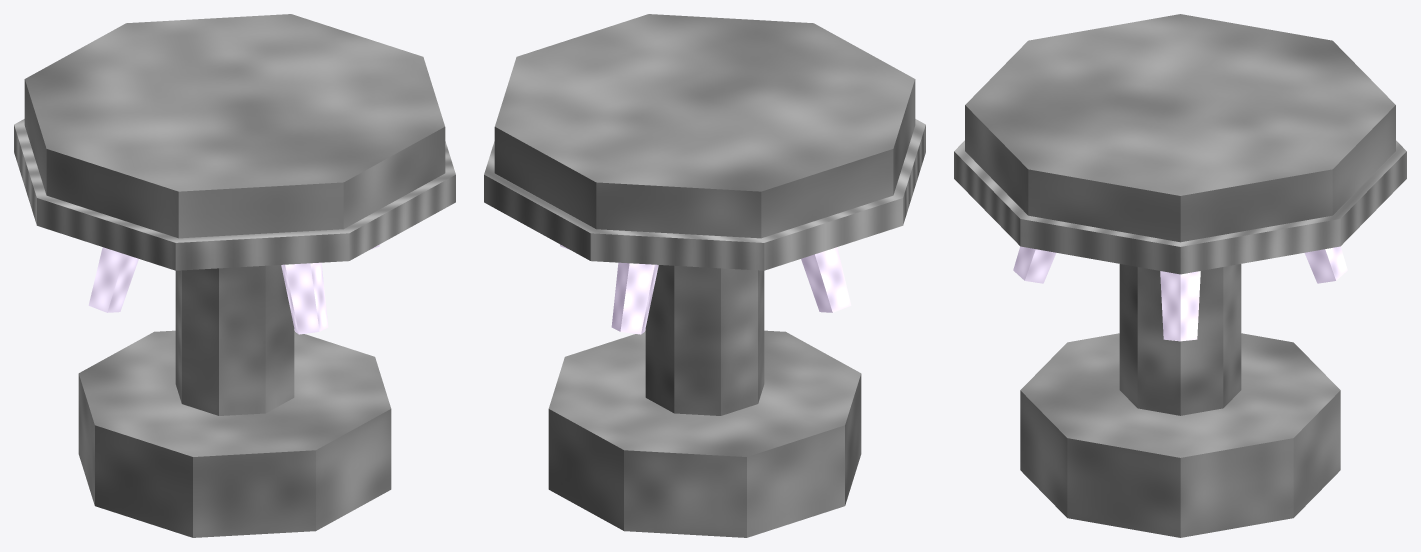
File: decor-crystal-end-table.glb
3 views of the same model, side by side, from view 1: azimuth 30°, elevation 25°; view 2: azimuth 150°, elevation 25°; view 3: azimuth 270°, elevation 25° (orthographic).
Visible parts, largest first — view 1: top, base, pedestal, top-band, under-crystal-1, under-crystal-2; view 2: top, base, pedestal, top-band, under-crystal-3, under-crystal-2; view 3: top, base, top-band, pedestal, under-crystal-0, under-crystal-1, under-crystal-3.
Boxes of the visible parts, <box> form: top: <box>24,14,445,238</box>; base: <box>78,330,391,537</box>; pedestal: <box>175,265,294,415</box>; top-band: <box>14,119,455,270</box>; under-crystal-1: <box>281,262,328,334</box>; under-crystal-2: <box>88,247,138,312</box>; top: <box>494,14,915,238</box>; base: <box>548,330,861,537</box>; pedestal: <box>645,265,764,415</box>; top-band: <box>484,119,925,270</box>; under-crystal-3: <box>611,262,658,334</box>; under-crystal-2: <box>801,247,851,312</box>; top: <box>965,14,1395,242</box>; base: <box>1020,333,1340,537</box>; top-band: <box>954,140,1406,274</box>; pedestal: <box>1119,264,1241,415</box>; under-crystal-0: <box>1160,271,1200,341</box>; under-crystal-1: <box>1013,246,1056,283</box>; under-crystal-3: <box>1304,246,1347,283</box>.
Bounding box in the file's own units: 0.82 × 0.73 × 0.82.
Materials: 5 (5 with a texture image).
